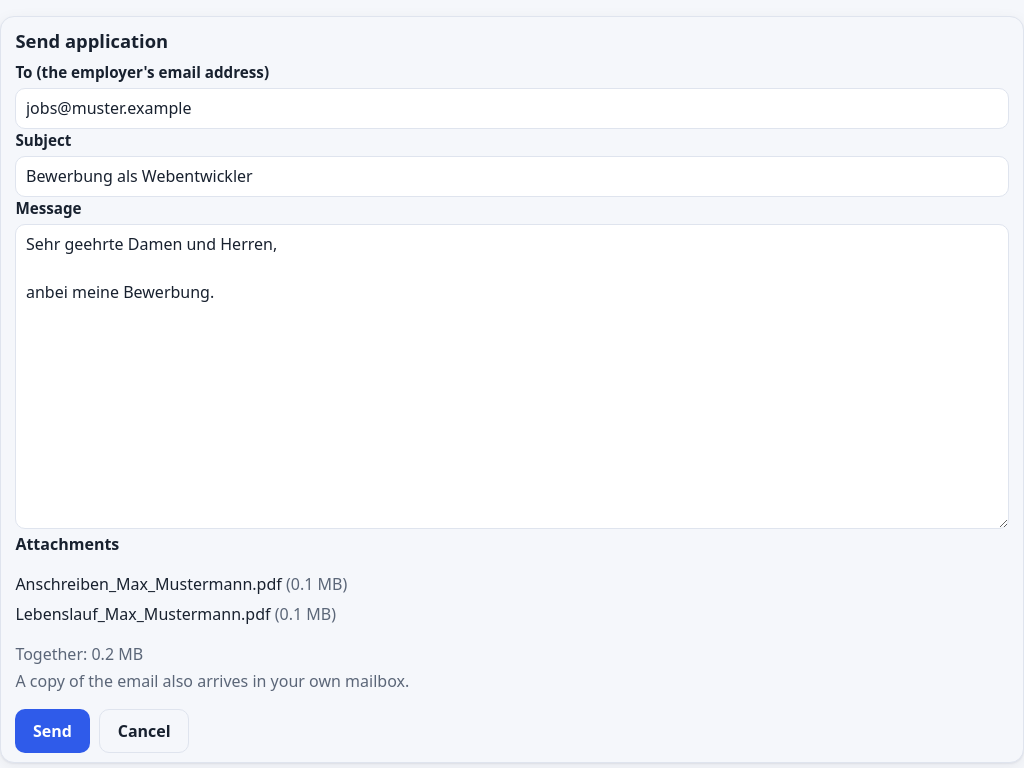
it: SendDialog › sent but not saved: a clear message and no "Try again"
Expected: the field labelled "Subject" is shown, [15,156,1009,197]
Click the button "Send": (52, 731) [15,709,90,753]
(page scrolled)
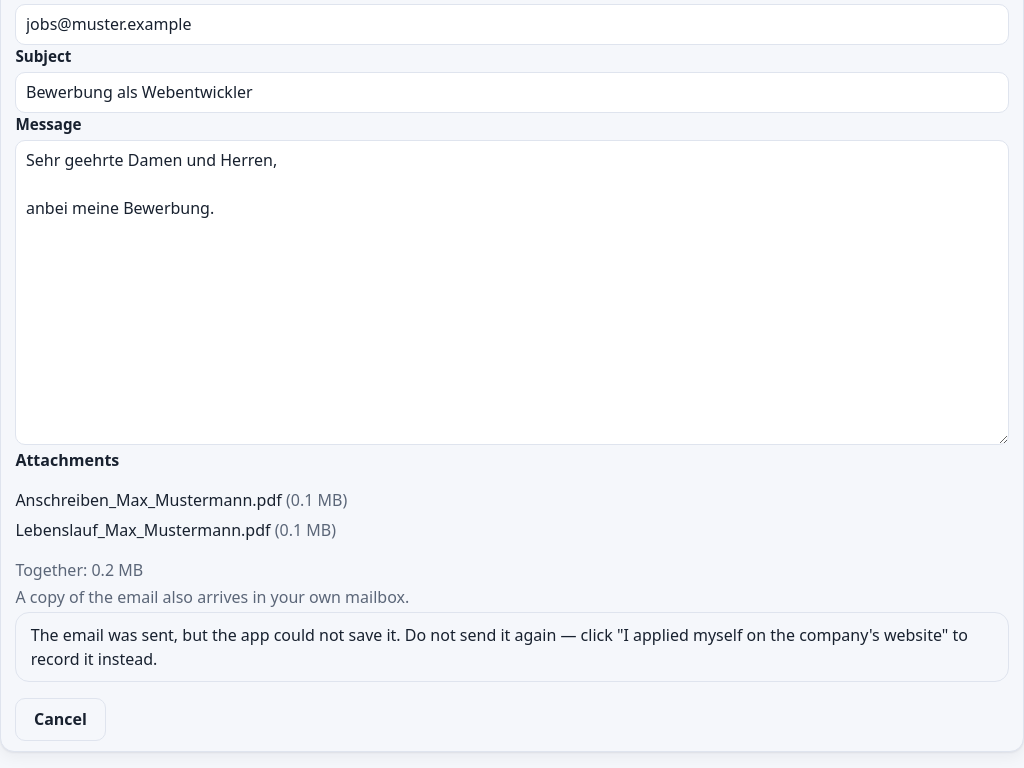
Expected: the button "Cancel" is enabled, [15,698,106,741]
Result: the text "The email was sent, but the app could not save it. Do not send it again" is shown at [31,624,968,670]
